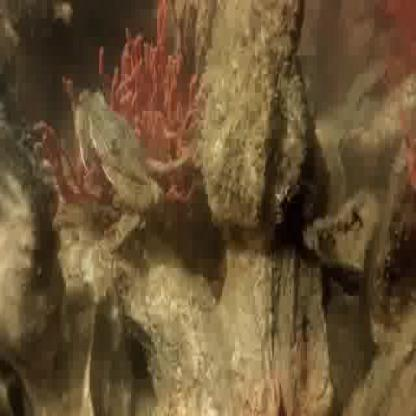Oyster-Open: (201, 0, 309, 237), (0, 134, 52, 341)
